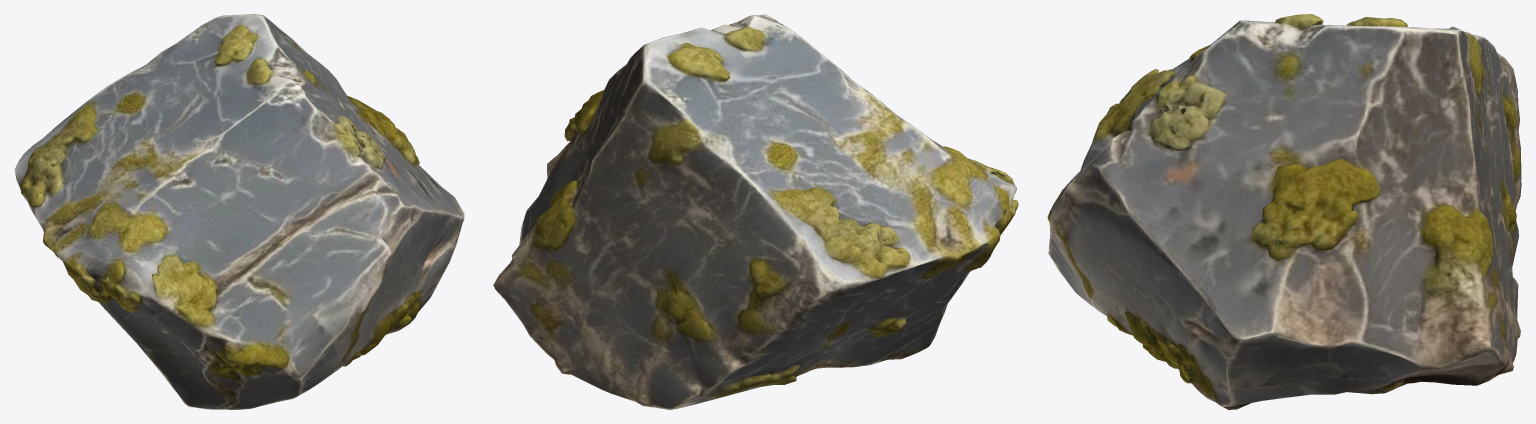
Rendered from roca1.glb.
3 renders of one model, left to right at view 1: azimuth 30°, elevation 25°; view 2: azimuth 150°, elevation 25°; view 3: azimuth 270°, elevation 25°, orthographic. The views are drawn at different scales.
Parts seen in each view (by area): view 1: geometry_0; view 2: geometry_0; view 3: geometry_0.
Boxes of the visible parts, left/top/right/bottom form: geometry_0: left=14, top=14, right=464, bottom=409; geometry_0: left=493, top=14, right=1018, bottom=409; geometry_0: left=1047, top=14, right=1521, bottom=409.
Bounding box in the file's own units: 1.4 × 1 × 1.2.
1 material, 1 textured.
